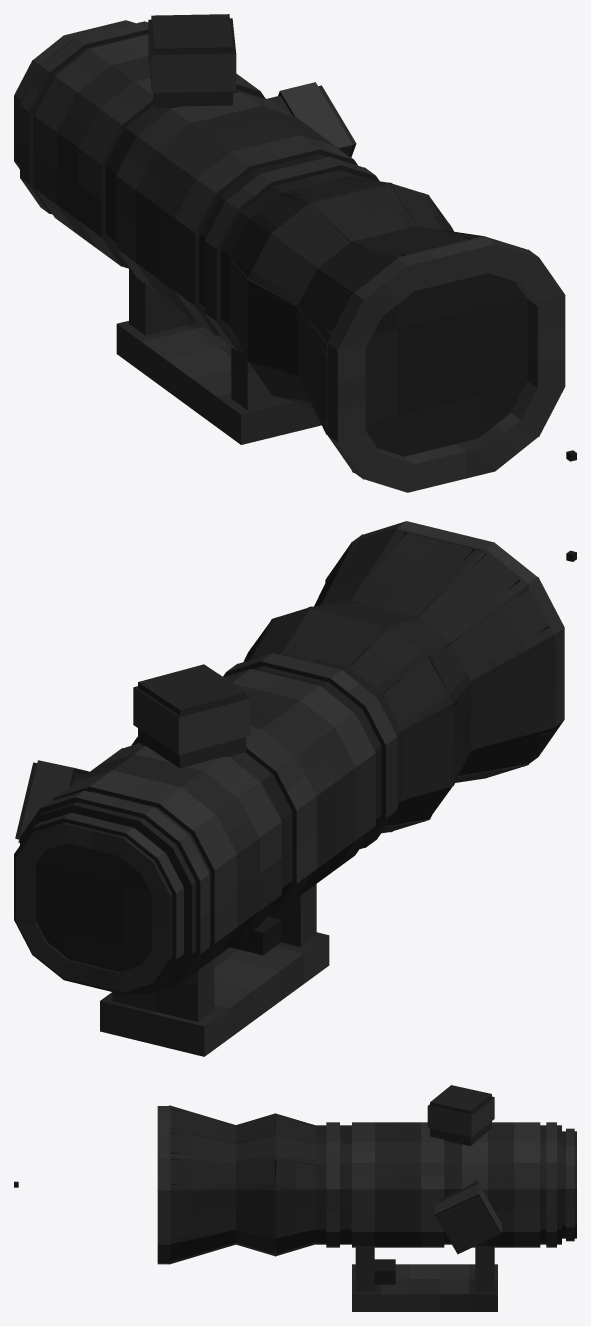
3 renders of one model, top to bottom at view 1: azimuth 30°, elevation 25°; view 2: azimuth 150°, elevation 25°; view 3: azimuth 270°, elevation 25°, orthographic. The views are drawn at different scales.
Visible parts, largest first — view 1: specter50, scopepip, specter44, specter45, specter26, specter48, pso3, specter40, specter49, specter43, specter46, specter47 (+9 smaller); view 2: specter26, specter44, specter45, specter49, specter41, pso3, specter47, specter40, bone66, bone65, specter43, specter46 (+11 smaller); view 3: specter44, specter45, specter26, specter49, specter40, specter47, specter48, pso3, pso4, specter50, bone68, specter43 (+9 smaller).
Part boxes in pixels (left/top/right/bottom): specter50: left=326, top=236, right=565, bottom=492; scopepip: left=365, top=273, right=527, bottom=456; specter44: left=116, top=91, right=357, bottom=336; specter45: left=34, top=34, right=265, bottom=268; specter26: left=116, top=269, right=321, bottom=444; specter48: left=247, top=182, right=446, bottom=407; pso3: left=148, top=14, right=236, bottom=108; specter40: left=20, top=33, right=372, bottom=345; specter49: left=297, top=226, right=527, bottom=472; specter43: left=205, top=157, right=379, bottom=352; specter46: left=20, top=21, right=148, bottom=214; specter47: left=230, top=176, right=423, bottom=407; specter26: left=36, top=843, right=329, bottom=1056; specter44: left=131, top=669, right=375, bottom=915; specter45: left=53, top=743, right=281, bottom=973; specter49: left=321, top=527, right=556, bottom=782; specter41: left=16, top=822, right=183, bottom=992; pso3: left=133, top=664, right=250, bottom=768; specter47: left=251, top=606, right=454, bottom=833; specter40: left=20, top=651, right=402, bottom=992; bone66: left=451, top=584, right=554, bottom=680; bone65: left=418, top=549, right=528, bottom=643; specter43: left=223, top=653, right=397, bottom=848; specter46: left=20, top=790, right=209, bottom=994; specter44: left=351, top=1122, right=444, bottom=1247; specter45: left=461, top=1122, right=540, bottom=1247; specter26: left=352, top=1247, right=497, bottom=1311; specter49: left=168, top=1106, right=235, bottom=1264; specter40: left=316, top=1125, right=561, bottom=1244; specter47: left=275, top=1114, right=315, bottom=1256; specter48: left=236, top=1113, right=275, bottom=1256; pso3: left=427, top=1085, right=494, bottom=1146; pso4: left=434, top=1180, right=501, bottom=1254; specter50: left=157, top=1106, right=170, bottom=1264; bone68: left=170, top=1156, right=235, bottom=1189; specter43: left=326, top=1122, right=339, bottom=1247.
Size of the model in its own units: 38.82 by 48.05 by 125.
Materials: 1 (1 with a texture image).
